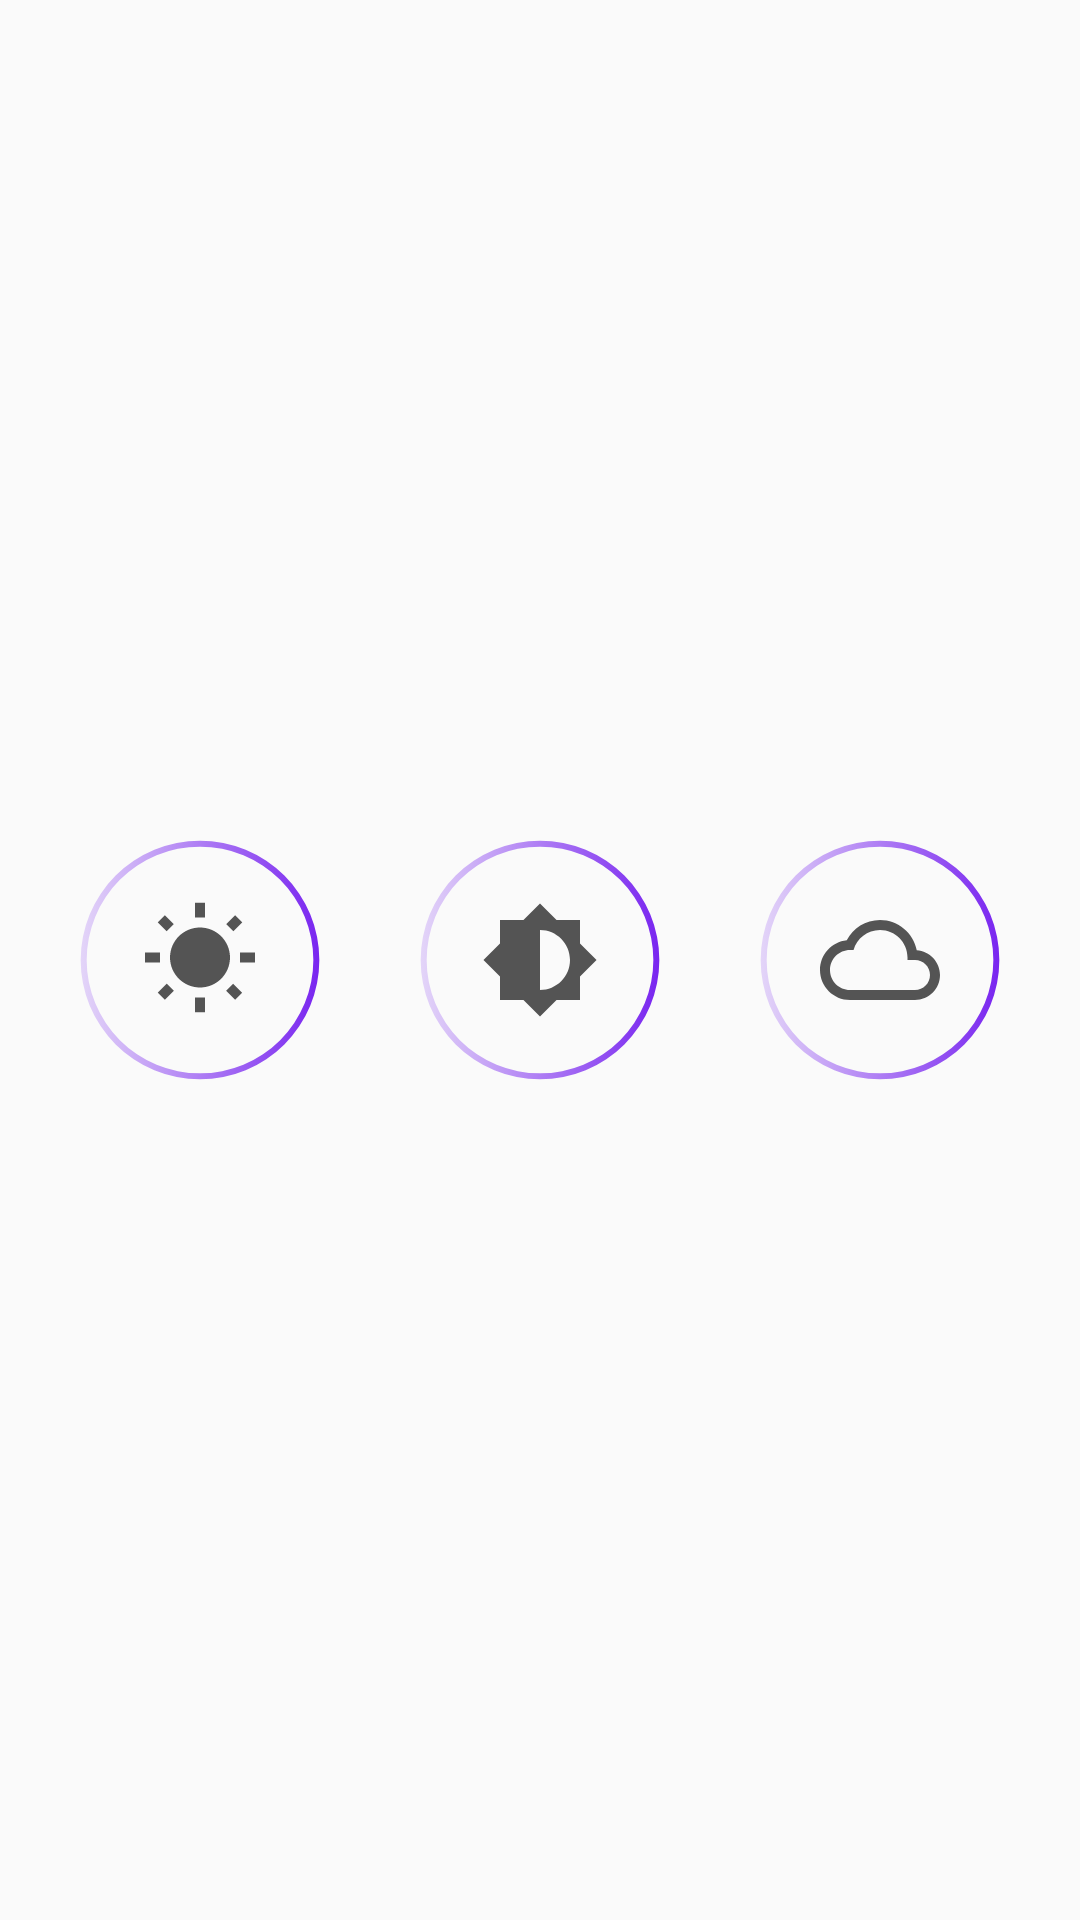

Where icons sit on this 1080 x 1920 app screen, as bbox(x1, y1, x2, y2):
brightness: bbox(145, 902, 255, 1013)
contrast: bbox(484, 904, 596, 1016)
